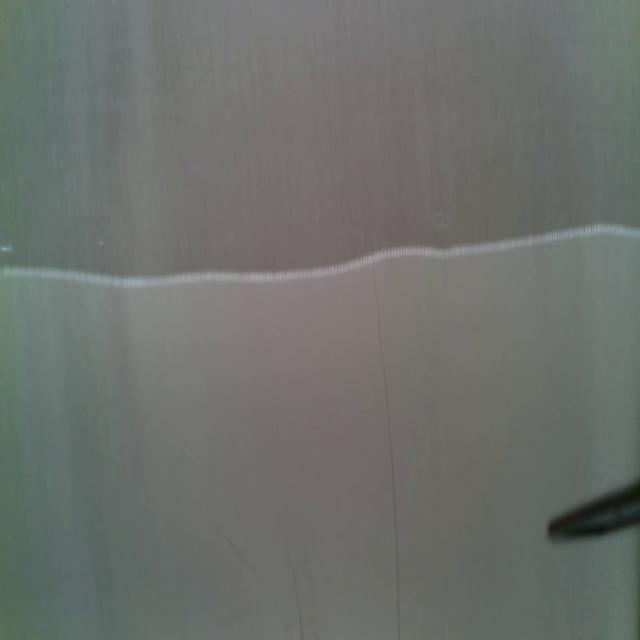crease: (371, 269, 402, 640)
